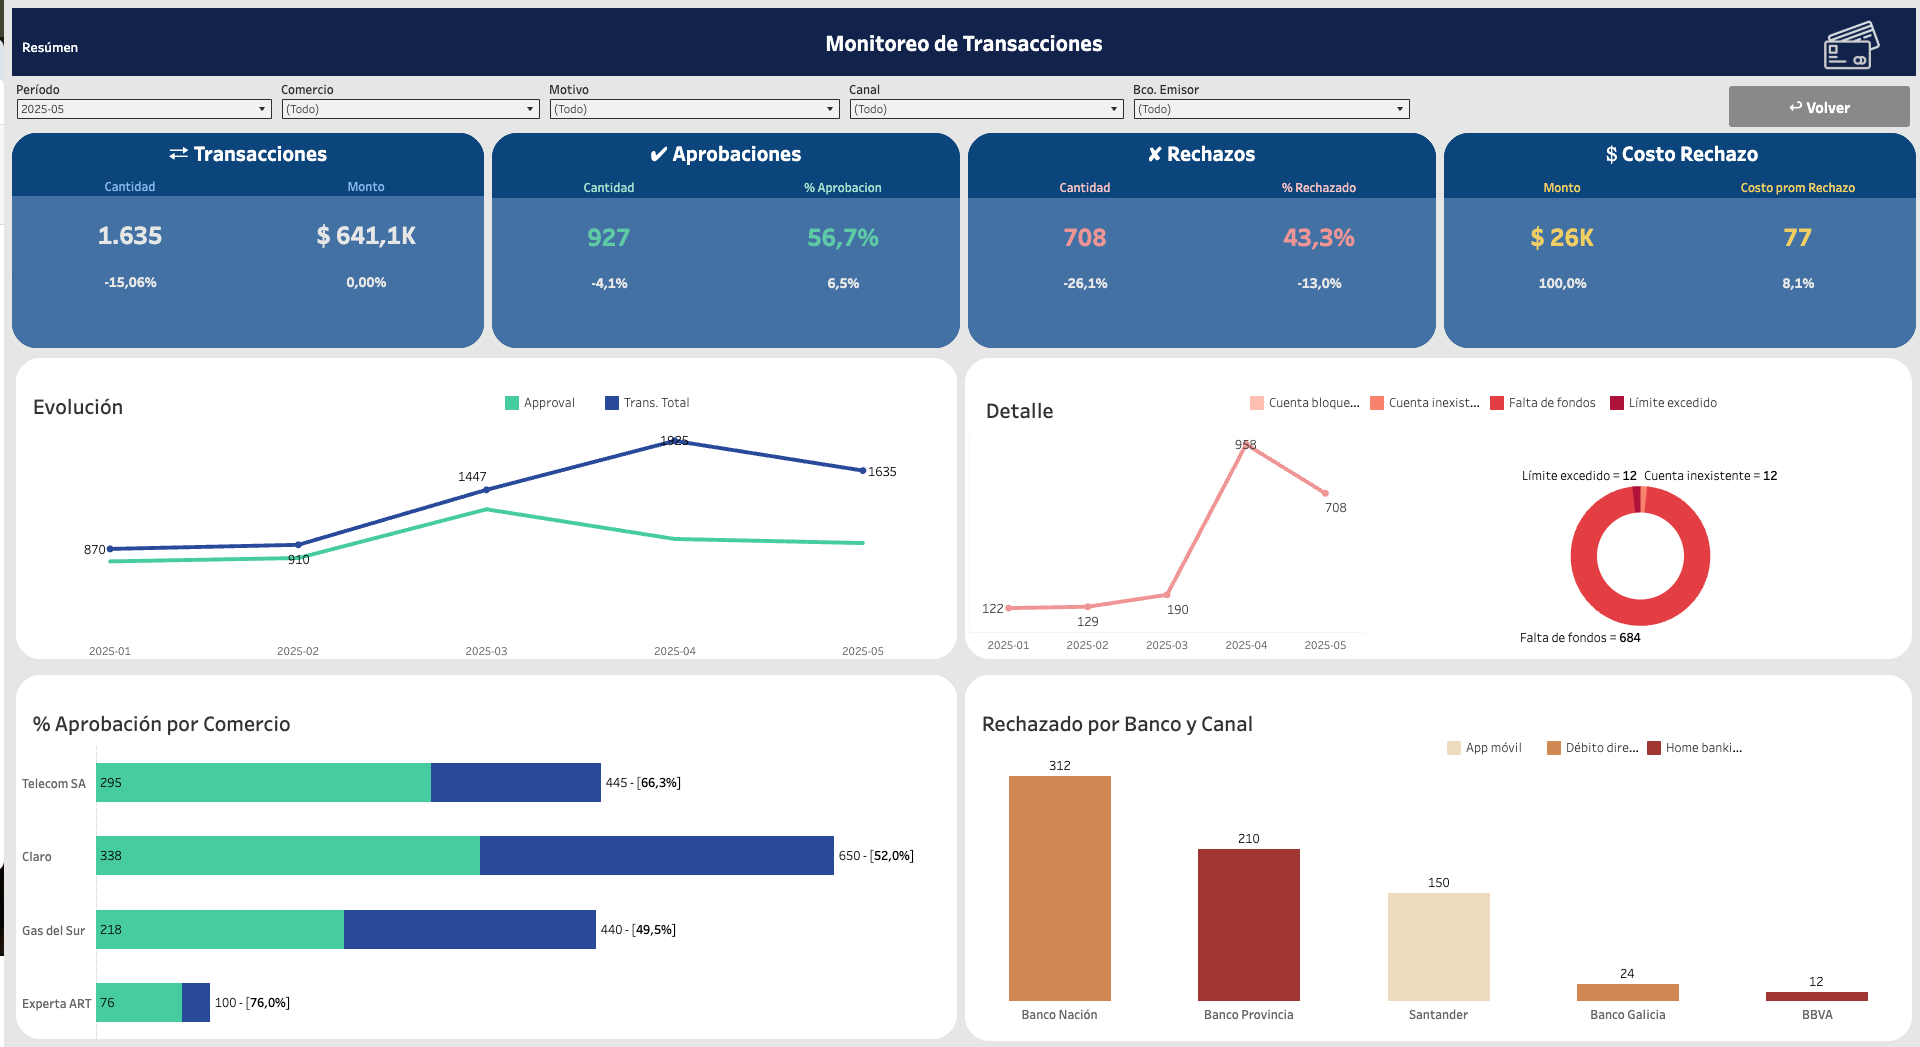

The dashboard page shown, as its layout file describes it:
{"tool":"tableau","page":{"name":"Ejecutiva","canvas":[1000,1000],"units":"permille","ordinal":0},"visuals":[{"type":"image","param":"Image/dinero.png","box":[937,8.4,51.2,67.3]},{"type":"text","box":[6.4,11.2,987.3,64.5]},{"type":"text","box":[9.6,15.4,86,58.9]},{"type":"parameter","param":"[Parameters].[Parámetro 1]","box":[6.4,75.7,137.3,53.1]},{"type":"filter","title":"Cant trx totales","param":"[federated.1dm4qi00j3v8891f29u3813izzjt].[none:Comercio:nk]","box":[143.7,75.7,138.9,53.1]},{"type":"filter","title":"Cant trx totales","param":"[federated.1dm4qi00j3v8891f29u3813izzjt].[none:Motivo Rechazo:nk]","box":[282.5,75.7,155.9,53.1]},{"type":"filter","title":"Evolucion","param":"[federated.1dm4qi00j3v8891f29u3813izzjt].[none:Canal:nk]","box":[438.5,75.7,146.8,53.1]},{"type":"filter","title":"Evolucion","param":"[federated.1dm4qi00j3v8891f29u3813izzjt].[none:Banco Emisor:nk]","box":[585.3,75.7,148.2,53.1]},{"type":"blank","box":[733.5,75.7,260.2,53.1]},{"type":"dashboard-object","box":[898.6,81.4,94,39.3]},{"type":"worksheet","title":"Cant trx totales","mark":"Automatic","box":[6.4,129,243.8,145.2]},{"type":"worksheet","title":"Cant trx aprobadas","mark":"Automatic","box":[256.6,129,240.7,146.6]},{"type":"worksheet","title":"Cant trx rechazadas","mark":"Automatic","box":[503.6,129,240.7,146.6]},{"type":"worksheet","title":"Costo rechazo","mark":"Automatic","box":[750.6,129,243.1,146.6]},{"type":"worksheet","title":"Total transacciones vs ma","mark":"Automatic","box":[6.4,274.2,243.8,58.2]},{"type":"worksheet","title":"Aprobado vs ma","mark":"Automatic","box":[256.6,275.6,240.7,56.8]},{"type":"worksheet","title":"Rechazo vs ma","mark":"Automatic","box":[503.6,275.6,240.7,56.8]},{"type":"worksheet","title":"Costo Rechazo vs ma","mark":"Automatic","box":[750.6,275.6,243.1,56.8]},{"type":"worksheet","title":"Evolucion","mark":"Line","rows":["Trans. Total","Trans. Aprobadas"],"cols":["Año-Mes"],"box":[6.4,332,492.3,298.3]},{"type":"worksheet","title":"Evolucion rechazos","mark":"Line","rows":["Cant. Rechazos"],"cols":["Año-Mes"],"box":[501.9,346.1,320.9,275.8]},{"type":"worksheet","title":"Declinacion por canal","mark":"Pie","cols":["Calculation_2438238570938375","Calculation_2438238570938375"],"box":[822.7,346.1,167.7,275.8]},{"type":"legend","title":"Evolucion","param":"[federated.1dm4qi00j3v8891f29u3813izzjt].[:Measure Names]","box":[259.5,373.1,205.3,37.9]},{"type":"legend","title":"Declinacion por canal","param":"[federated.1dm4qi00j3v8891f29u3813izzjt].[none:Motivo Rechazo:nk]","box":[647.2,373.1,324,64.5]},{"type":"worksheet","title":"Aprv. by merchant","mark":"Bar","rows":["Comercio"],"cols":["Calculation_2438239203184651","Trans. Total CM (copia)_2438239211905039"],"box":[6.4,630.3,492,358.5]},{"type":"worksheet","title":"Decinacion por bco","mark":"Automatic","rows":["Trans. Total CM (copia)_2438239259267097"],"cols":["Banco Emisor"],"box":[498.4,630.3,495.3,358.5]},{"type":"legend","title":"Decinacion por bco","param":"[federated.1dm4qi00j3v8891f29u3813izzjt].[none:Canal:nk]","box":[750,701.3,220.9,40.7]}]}

Visuals, with their boxes on the dashboard's canvas, which has no fixed pixel size, in thousandths of its width and height (x1, y1, x2, y2). These are canvas units, not pixel positions in the 1920x1047 screenshot, which may show the page scaled, cropped or inside an application window:
image: crop(937, 8, 988, 76)
text: crop(6, 11, 994, 76)
text: crop(10, 15, 96, 74)
parameter: crop(6, 76, 144, 129)
"Cant trx totales" filter: crop(144, 76, 283, 129)
"Cant trx totales" filter: crop(282, 76, 438, 129)
"Evolucion" filter: crop(438, 76, 585, 129)
"Evolucion" filter: crop(585, 76, 734, 129)
blank: crop(734, 76, 994, 129)
dashboard-object: crop(899, 81, 993, 121)
"Cant trx totales" worksheet: crop(6, 129, 250, 274)
"Cant trx aprobadas" worksheet: crop(257, 129, 497, 276)
"Cant trx rechazadas" worksheet: crop(504, 129, 744, 276)
"Costo rechazo" worksheet: crop(751, 129, 994, 276)
"Total transacciones vs ma" worksheet: crop(6, 274, 250, 332)
"Aprobado vs ma" worksheet: crop(257, 276, 497, 332)
"Rechazo vs ma" worksheet: crop(504, 276, 744, 332)
"Costo Rechazo vs ma" worksheet: crop(751, 276, 994, 332)
"Evolucion" worksheet (Line marks): crop(6, 332, 499, 630)
"Evolucion rechazos" worksheet (Line marks): crop(502, 346, 823, 622)
"Declinacion por canal" worksheet (Pie marks): crop(823, 346, 990, 622)
"Evolucion" legend: crop(260, 373, 465, 411)
"Declinacion por canal" legend: crop(647, 373, 971, 438)
"Aprv. by merchant" worksheet (Bar marks): crop(6, 630, 498, 989)
"Decinacion por bco" worksheet: crop(498, 630, 994, 989)
"Decinacion por bco" legend: crop(750, 701, 971, 742)
